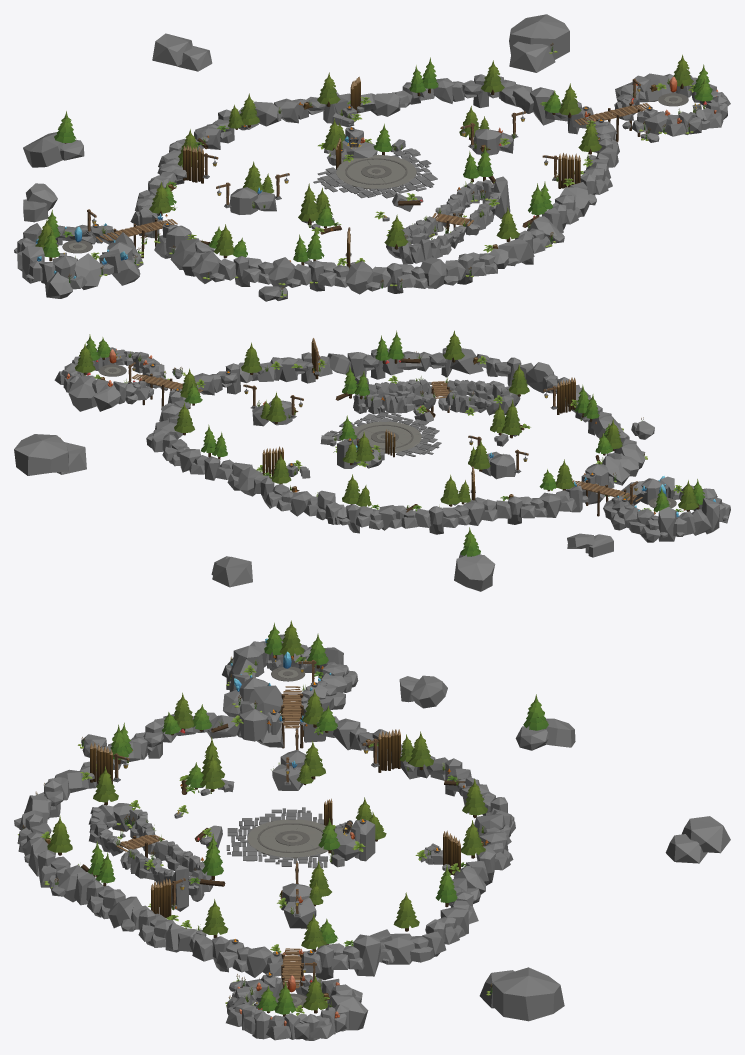
Rendered from ZenithObject.fbx.
3 renders of one model, top to bottom at view 1: azimuth 30°, elevation 25°; view 2: azimuth 150°, elevation 25°; view 3: azimuth 270°, elevation 25°, orthographic. The views are drawn at different scales.
Parts seen in each view (by area): view 1: Arena_01, Rock_05__2__2, Rock_02__2__2, Rock_05_2, Rock_02_2, Rock_02__69_, Rock_05__5_, Rock_05__22_, Rock_05__6_, Rock_02__1__2, Rock_05__24_, Rock_05__1_ (+14 smaller); view 2: Rock_05__2__2, Arena_01, Rock_05_2, Rock_02_2, Rock_05__8__1, Rock_05__22_, Rock_02__2__2, Rock_04__12__1, Rock_05__6_, Rock_02__16_, Rock_01__7__1, Rock_03_3 (+4 smaller); view 3: Rock_05__2__2, Arena_01, Rock_02_2, Rock_05__1__2, Rock_01__20_, Rock_02__1__2, Rock_05__3_, Rock_05__8__1, Rock_02__65_, Rock_03__24_, Rock_05_2, Rock_01__2__1 (+2 smaller).
Part boxes in pixels (x1,y1,x2,y2): Arena_01: [336, 154, 416, 189]; Rock_05__2__2: [509, 14, 569, 59]; Rock_02__2__2: [509, 41, 555, 72]; Rock_05_2: [23, 132, 64, 167]; Rock_02_2: [152, 33, 192, 66]; Rock_02__69_: [74, 253, 102, 289]; Rock_05__5_: [345, 261, 373, 294]; Rock_05__22_: [229, 187, 257, 214]; Rock_05__6_: [420, 257, 446, 288]; Rock_02__1__2: [177, 45, 212, 71]; Rock_05__24_: [472, 129, 501, 155]; Rock_05__1_: [192, 251, 220, 283]; Rock_05__2__2: [14, 434, 68, 475]; Arena_01: [354, 421, 421, 453]; Rock_05_2: [454, 554, 495, 591]; Rock_02_2: [212, 556, 252, 587]; Rock_05__8__1: [68, 375, 96, 411]; Rock_05__22_: [489, 454, 515, 479]; Rock_02__2__2: [56, 442, 86, 474]; Rock_04__12__1: [658, 506, 676, 541]; Rock_05__6_: [525, 362, 554, 393]; Rock_02__16_: [450, 348, 483, 374]; Rock_01__7__1: [94, 384, 120, 411]; Rock_03_3: [585, 534, 613, 557]; Rock_05__2__2: [492, 967, 564, 1021]; Arena_01: [247, 819, 328, 858]; Rock_02_2: [682, 816, 730, 853]; Rock_05__1__2: [411, 675, 447, 708]; Rock_01__20_: [353, 934, 380, 976]; Rock_02__1__2: [665, 834, 707, 863]; Rock_05__3_: [239, 708, 268, 741]; Rock_05__8__1: [325, 994, 368, 1030]; Rock_02__65_: [249, 685, 283, 714]; Rock_03__24_: [351, 820, 375, 861]; Rock_05_2: [529, 718, 575, 747]; Rock_01__2__1: [384, 933, 414, 964].
Bounding box in the file's own units: 13441 × 1260 × 10501.
Materials: 1 (1 with a texture image).
